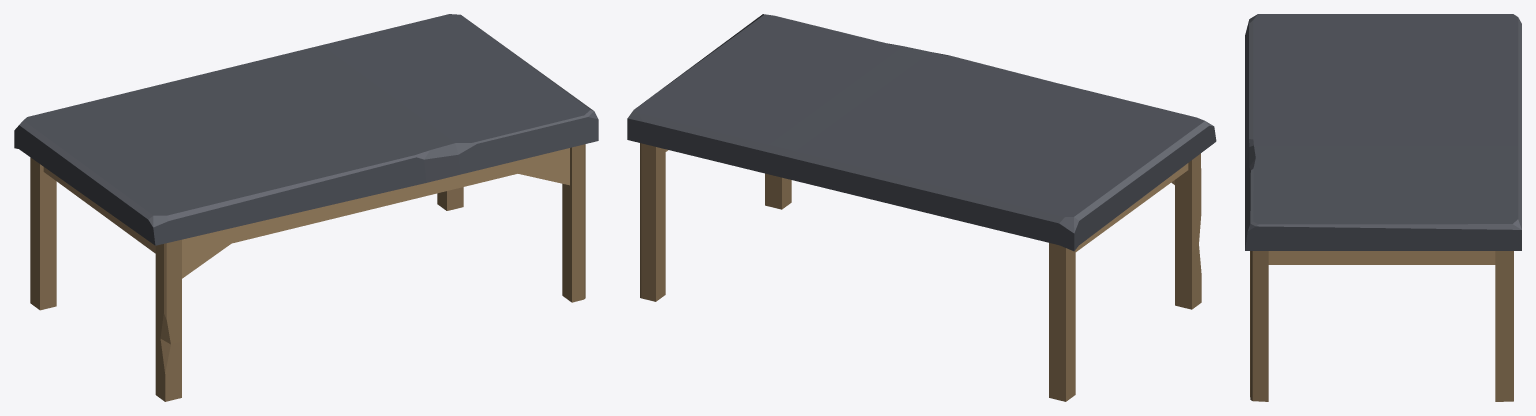
Rendered from WF_LP_HT_Props_Table.001.fbx.
3 views of the same model, side by side, from view 1: azimuth 30°, elevation 25°; view 2: azimuth 150°, elevation 25°; view 3: azimuth 270°, elevation 25° (orthographic). The views are drawn at different scales.
Visible parts, largest first — view 1: WF_LP_HT_Props_Table.001; view 2: WF_LP_HT_Props_Table.001; view 3: WF_LP_HT_Props_Table.001.
Boxes of the visible parts, box(x1,y1,x2,y2) form: WF_LP_HT_Props_Table.001: box(14, 14, 598, 401); WF_LP_HT_Props_Table.001: box(627, 14, 1216, 401); WF_LP_HT_Props_Table.001: box(1245, 14, 1521, 401).
Bounding box in the file's own units: 2.37 × 0.9448 × 1.31.
